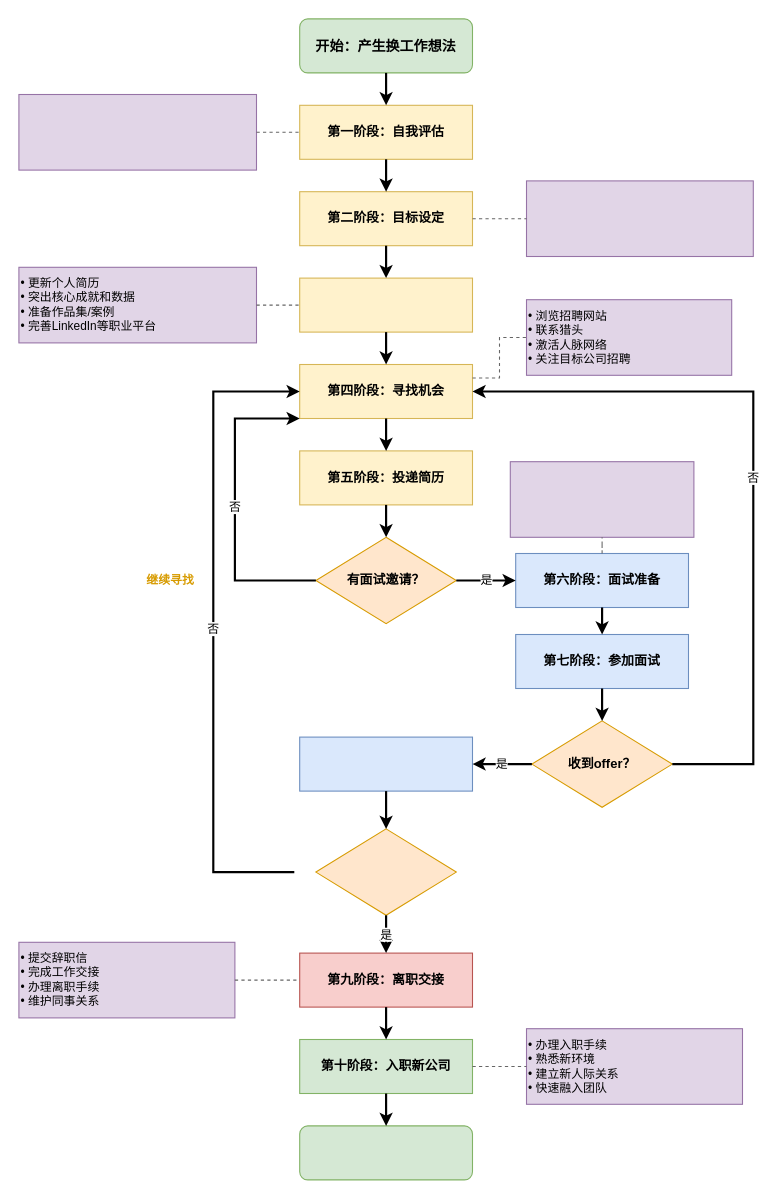
Image size: 782x1199. Some labels were removed from this diagram. Each missing label, with the centre of its shape:
• 分析当前工作不满意的原因 • 明确自己的技能和优势 • 评估市场竞争力 • 确定职业发展方向: the point at 137,131
• 研究公司背景 • 准备常见面试问题 • 模拟面试练习 • 准备提问清单: the point at 601,499
• 确定目标行业和岗位 • 设定期望薪资范围 • 选择目标城市 • 明确公司规模偏好: the point at 639,218
完成：开启新职业旅程: the point at 386,1152
满意offer？: the point at 385,871
第三阶段：简历准备: the point at 386,304
第八阶段：评估offer: the point at 386,763
